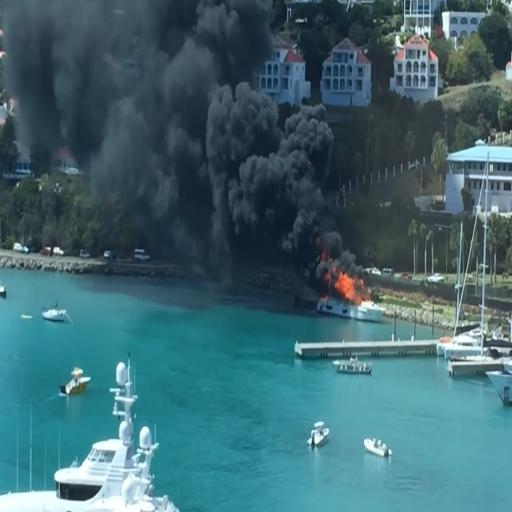fire: (330, 261, 358, 296)
smoke: (15, 0, 273, 136), (200, 80, 324, 254), (80, 90, 182, 250)
